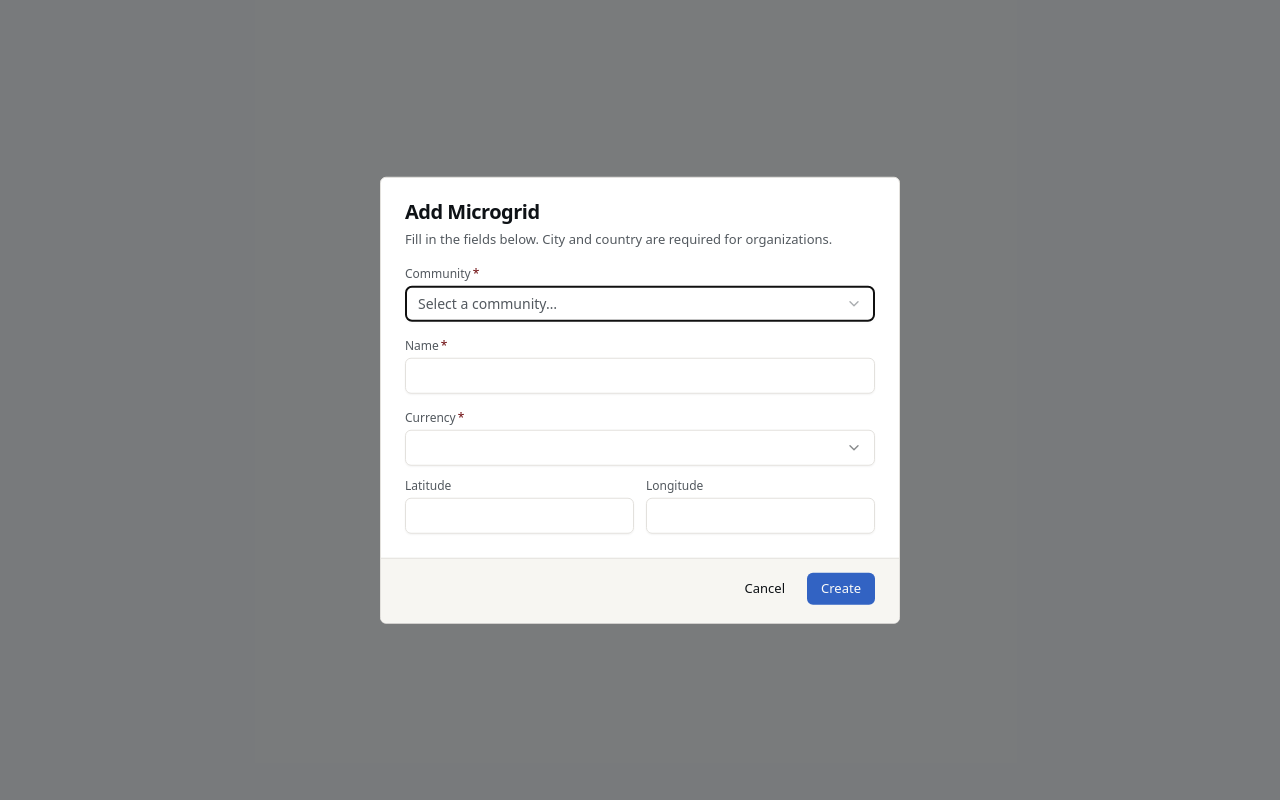
Test: EntityForm › microgrid: picker mode (availableCommunities) › shows validation error when submitted without selecting a community
In the field labelled "Name*": coordinates (640, 375) [405,357,875,393], type "Test MG"
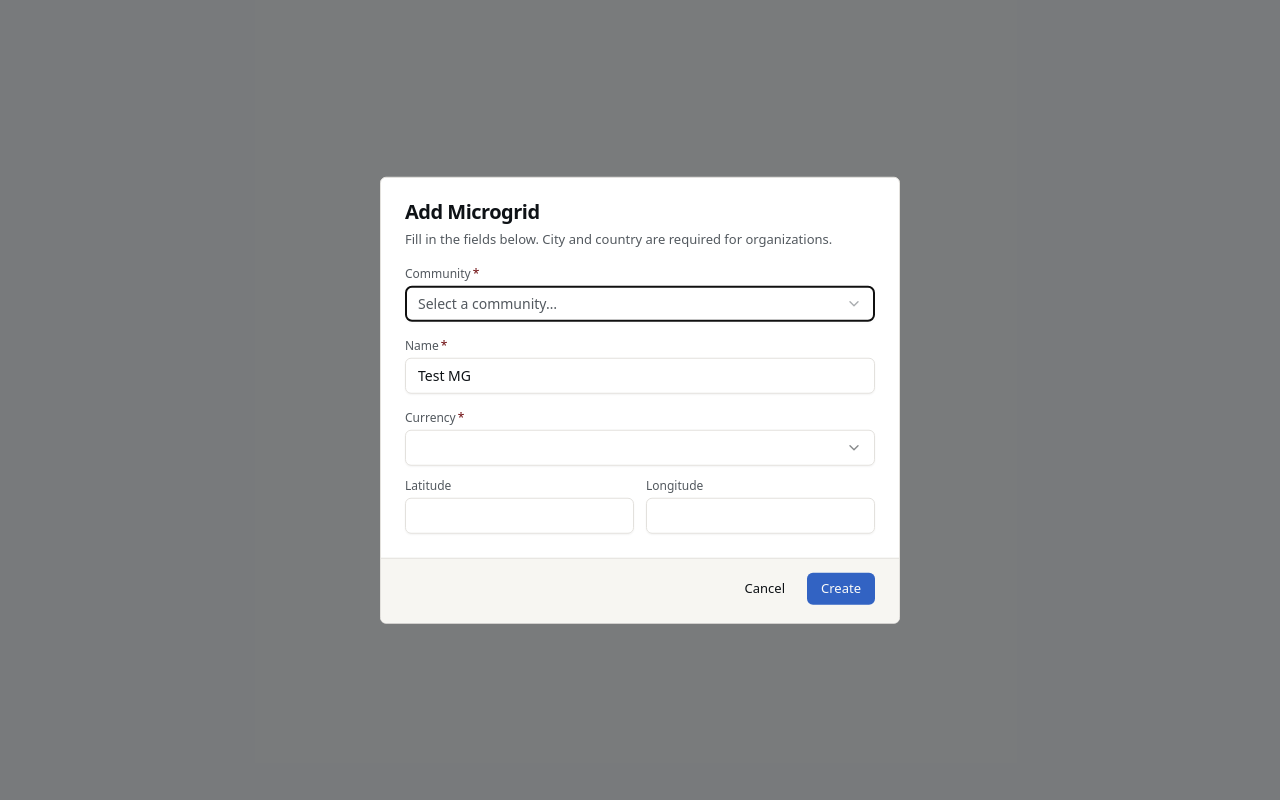
Click the button "Create": coordinates (841, 588) [807,572,875,604]
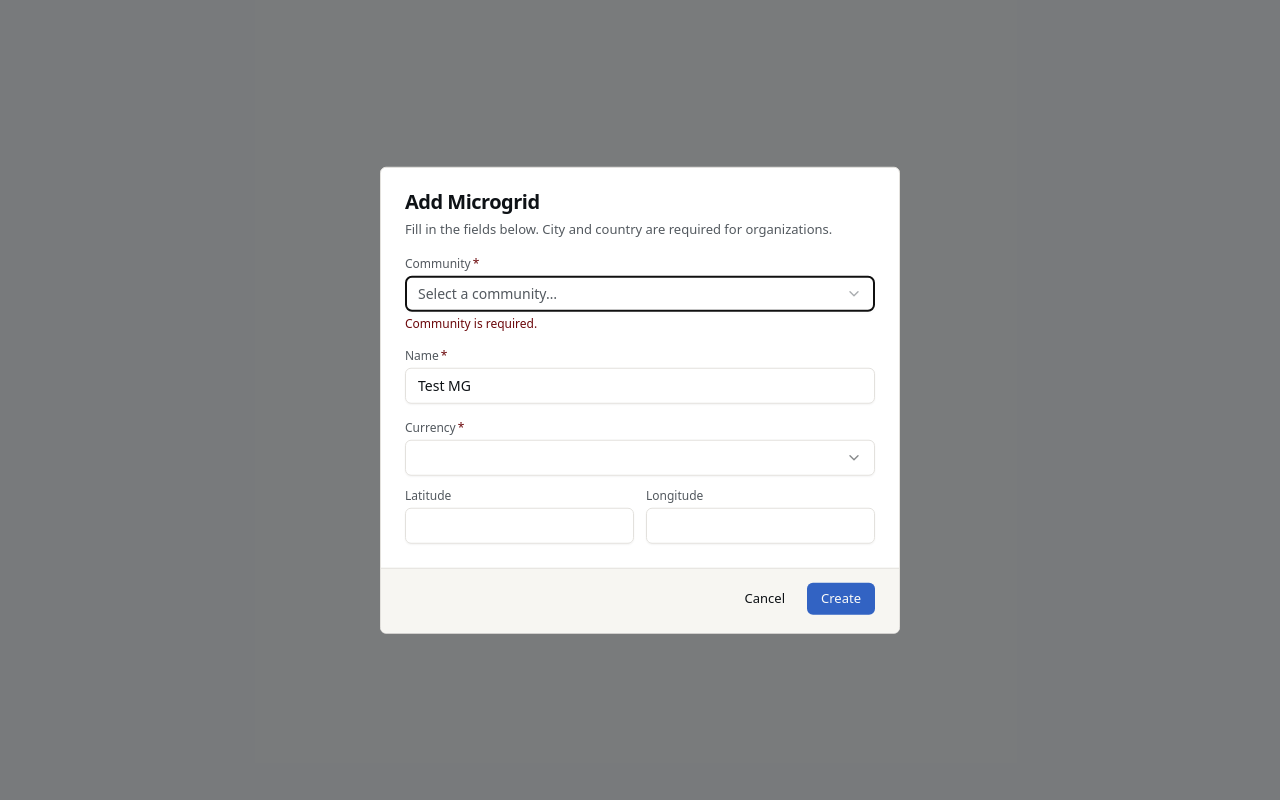
Expected: the message "Community is required." is shown, [405,314,537,331]
